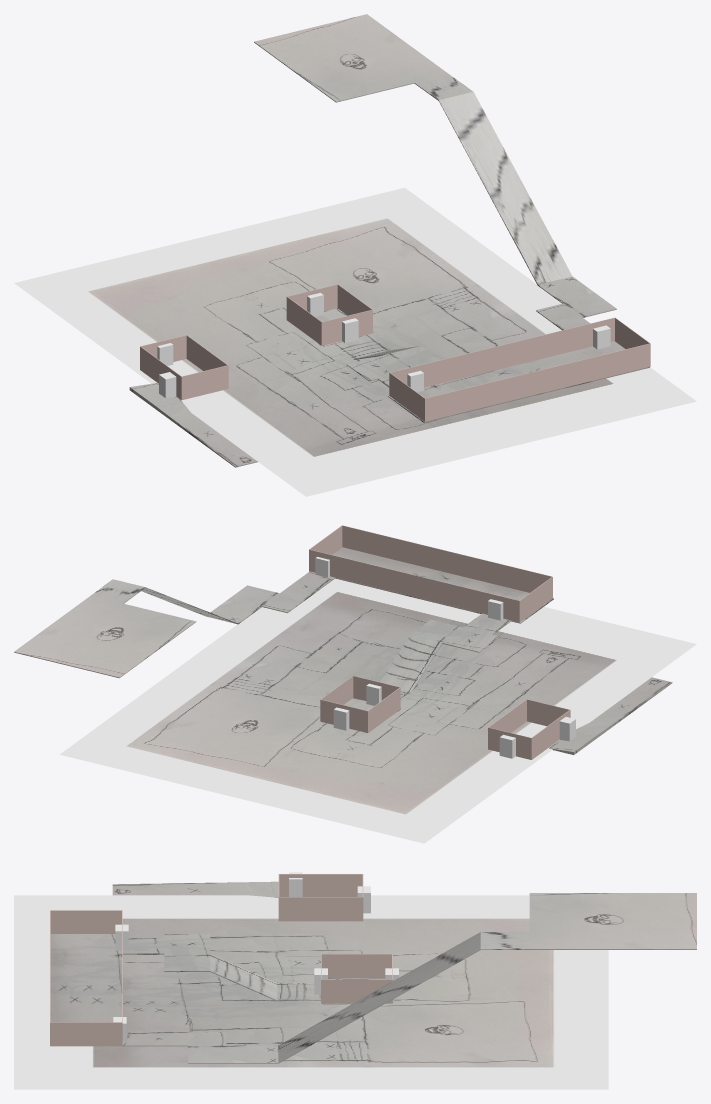
Rendered from Tutorial_Level_Old.fbx.
3 renders of one model, top to bottom at view 1: azimuth 30°, elevation 25°; view 2: azimuth 150°, elevation 25°; view 3: azimuth 270°, elevation 25°, orthographic. The views are drawn at different scales.
Parts seen in each view (by area): view 1: Concept Art _ Map, Cube, Room.002, Room, Room.001; view 2: Concept Art _ Map, Cube, Room.002, Room, Room.001; view 3: Concept Art _ Map, Cube, Room, Room.002, Room.001, CTRL_Hole.004.
Boxes of the visible parts, left/top/right/bottom form: Concept Art _ Map: left=14, top=187, right=696, bottom=496; Cube: left=129, top=14, right=649, bottom=467; Room.002: left=389, top=317, right=650, bottom=421; Room: left=140, top=335, right=228, bottom=400; Room.001: left=286, top=284, right=372, bottom=345; Concept Art _ Map: left=60, top=578, right=696, bottom=843; Cube: left=14, top=547, right=672, bottom=754; Room.002: left=309, top=525, right=552, bottom=622; Room: left=488, top=699, right=570, bottom=759; Room.001: left=320, top=675, right=400, bottom=732; Concept Art _ Map: left=14, top=895, right=608, bottom=1089; Cube: left=50, top=881, right=696, bottom=1063; Room: left=278, top=874, right=363, bottom=921; Room.002: left=50, top=910, right=122, bottom=1046; Room.001: left=321, top=954, right=392, bottom=1003; CTRL_Hole.004: left=115, top=924, right=128, bottom=949.
Bounding box in the file's own units: 1454 × 475 × 2016.
3 materials, 1 textured.
